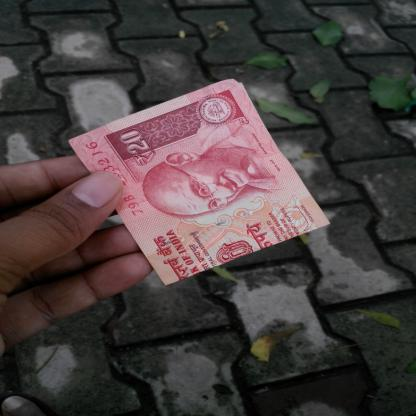Old20Front: (88, 79, 313, 278)
